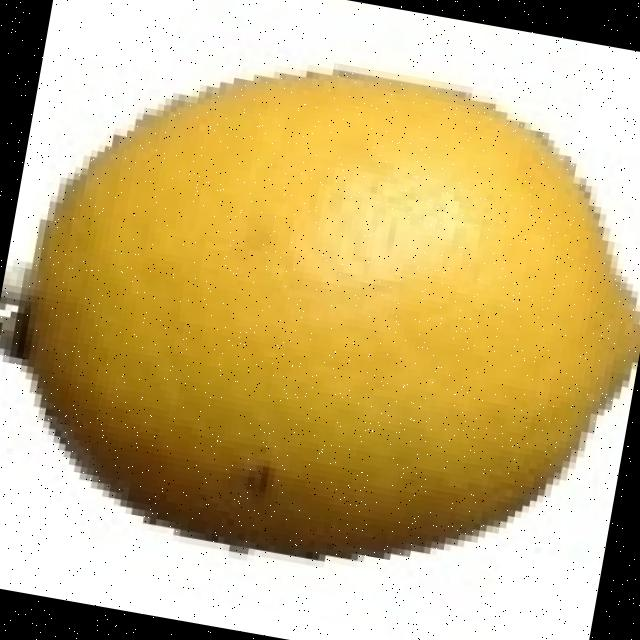lemon: (16, 73, 640, 558)
